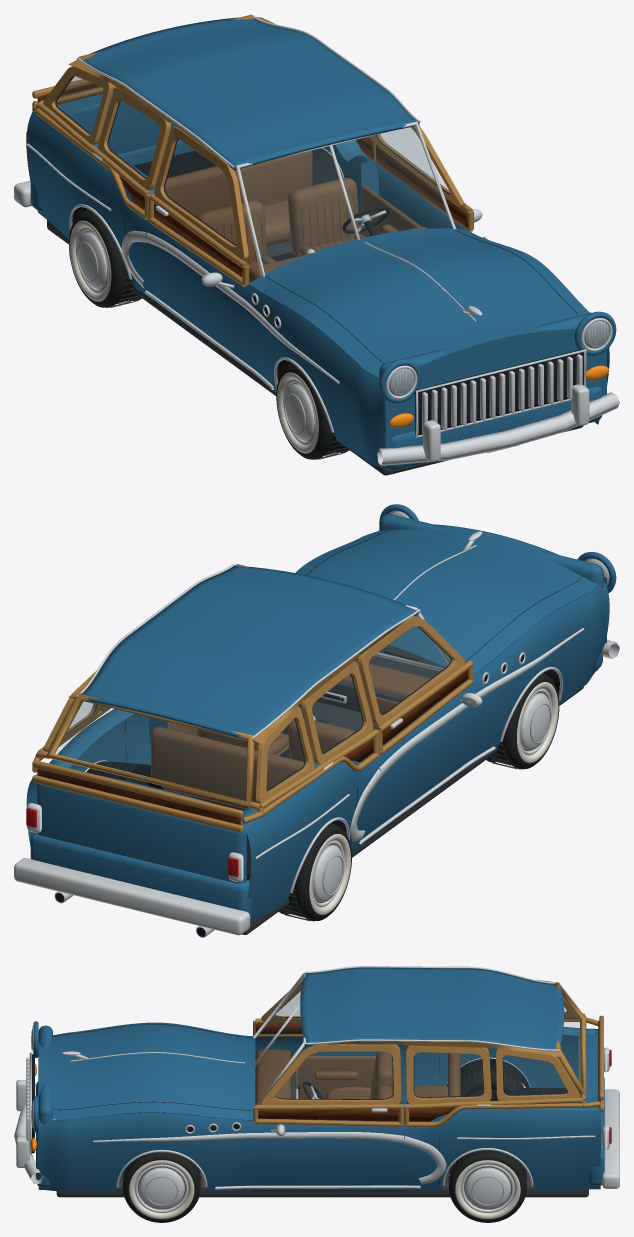
3 views of the same model, one above another, from view 1: azimuth 30°, elevation 25°; view 2: azimuth 150°, elevation 25°; view 3: azimuth 270°, elevation 25° (orthographic). The views are drawn at different scales.
Parts seen in each view (by area): view 1: Body, DoorMesh_R, DoorMesh_L, WheelMesh_RR, WheelMesh_FR; view 2: Body, DoorMesh_R, WheelMesh_RR, WheelMesh_FR; view 3: Body, DoorMesh_L, DoorMesh_R, WheelMesh_RL, WheelMesh_FL, WheelMesh_RR.
Boxes of the visible parts, x1,y1,x2,y2 form: Body: (14,14,619,475); DoorMesh_R: (146,127,260,369); DoorMesh_L: (361,125,482,236); WheelMesh_RR: (69,209,141,307); WheelMesh_FR: (276,363,349,459); Body: (14,504,619,937); DoorMesh_R: (357,616,482,837); WheelMesh_RR: (278,823,351,921); WheelMesh_FR: (486,673,559,769); Body: (14,966,619,1197); DoorMesh_L: (253,1044,404,1189); DoorMesh_R: (253,980,403,1105); WheelMesh_RL: (448,1150,527,1222); WheelMesh_FL: (122,1152,201,1222); WheelMesh_RR: (460,1069,523,1096).
Bounding box in the file's own units: 2.41 × 1.89 × 5.76.
15 materials, 1 textured.
